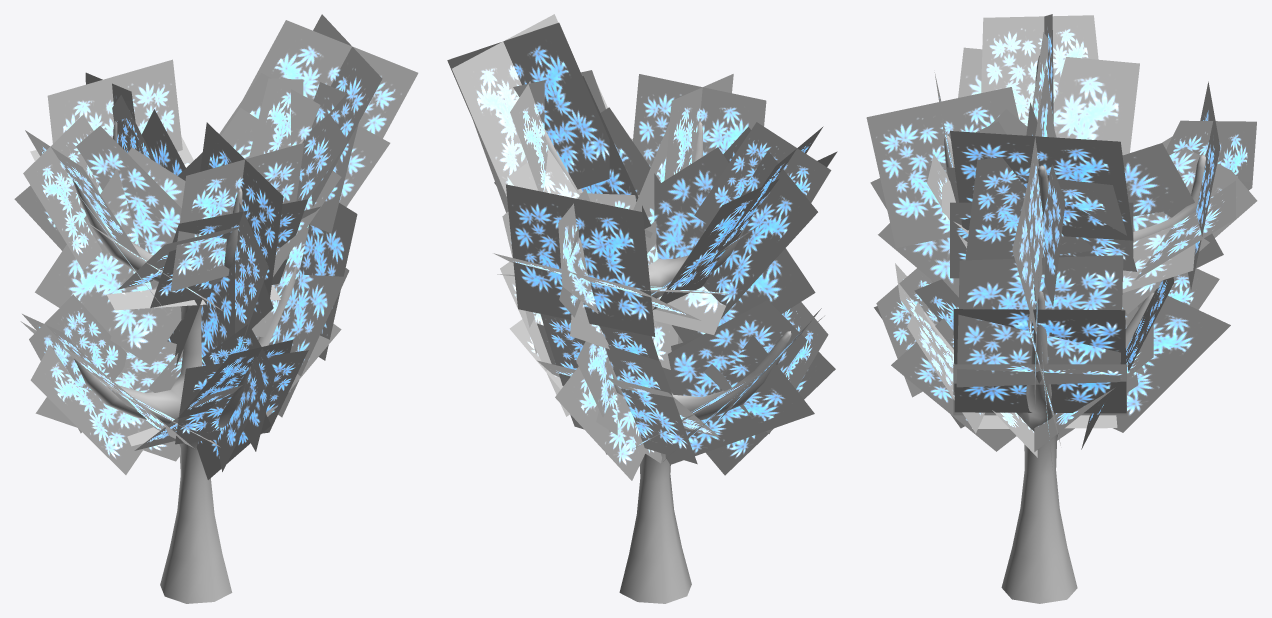
Rendered from Arvore03.fbx.
3 renders of one model, left to right at view 1: azimuth 30°, elevation 25°; view 2: azimuth 150°, elevation 25°; view 3: azimuth 270°, elevation 25°, orthographic. The views are drawn at different scales.
Visible parts, largest first — view 1: Arvore03_Folhas, Arvore03; view 2: Arvore03_Folhas, Arvore03; view 3: Arvore03_Folhas, Arvore03.
Boxes of the visible parts, x1,y1,x2,y2 form: Arvore03_Folhas: (14,14,418,479); Arvore03: (72,121,304,603); Arvore03_Folhas: (447,14,837,480); Arvore03: (544,121,791,603); Arvore03_Folhas: (866,14,1257,469); Arvore03: (924,55,1205,603).
Bounding box in the file's own units: 818 × 1093 × 679.
